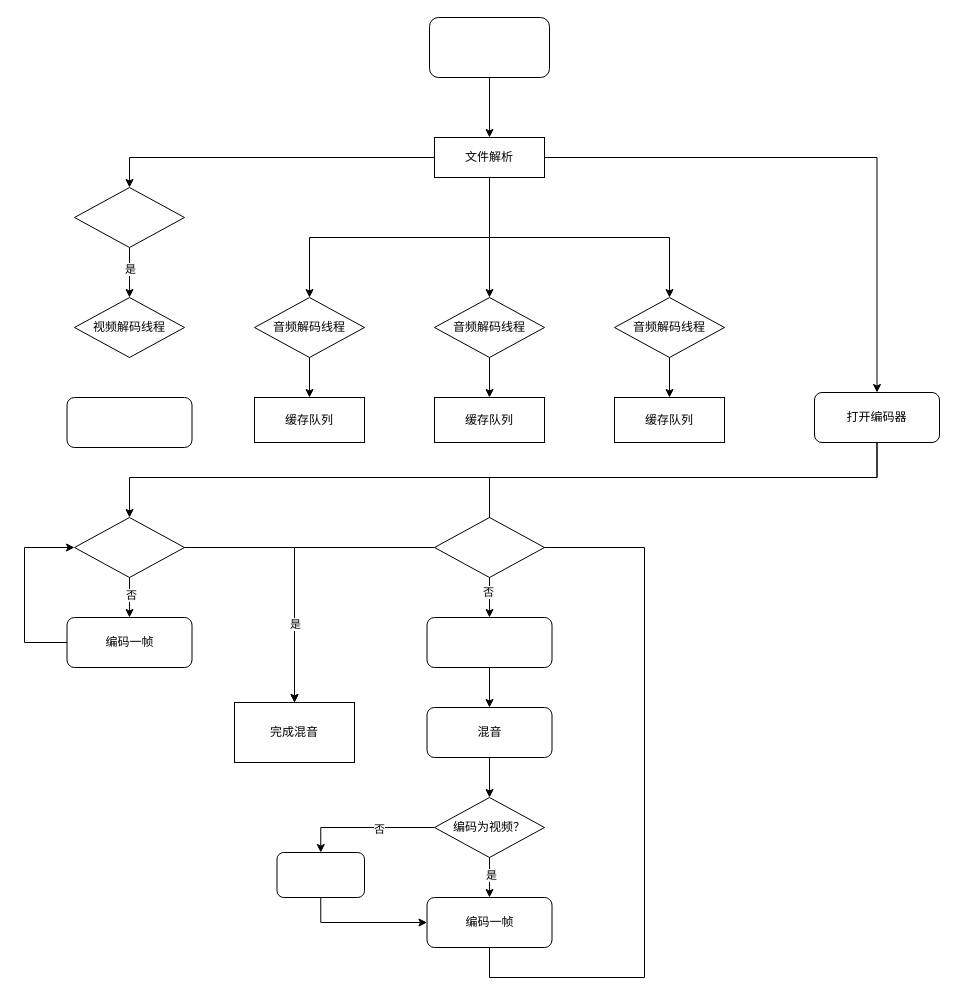
The diagram is 957 pixels wide and 1003 high, and some of its shapes have lost their labels. The centre of each missing label's shape, as x and y in pixels:
"test1 为视频？" goes at [129,217].
"test1.mp? test2.mp? test3.mp?" goes at [489,47].
"视频缓存队列" goes at [129,422].
"视频编码结束？" goes at [129,547].
"转码" goes at [320,875].
"遍历缓存队列" goes at [489,642].
"音频编码结束？" goes at [489,547].
